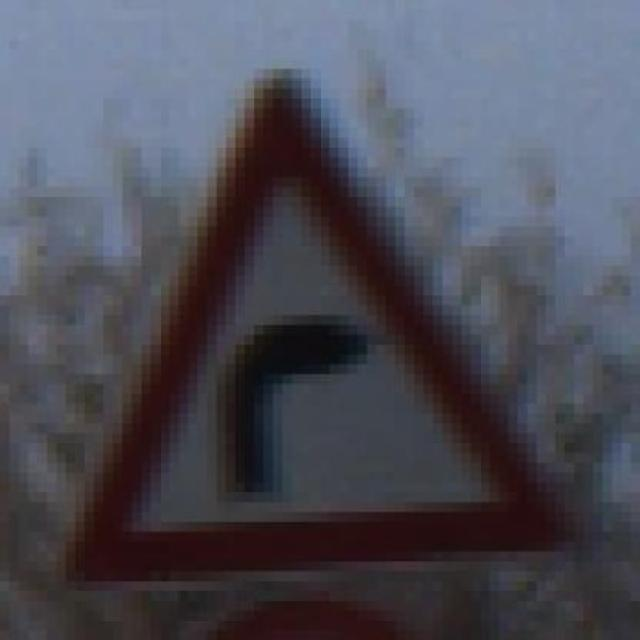Dangerous Rright Curve Ahead: (47, 68, 593, 581)
